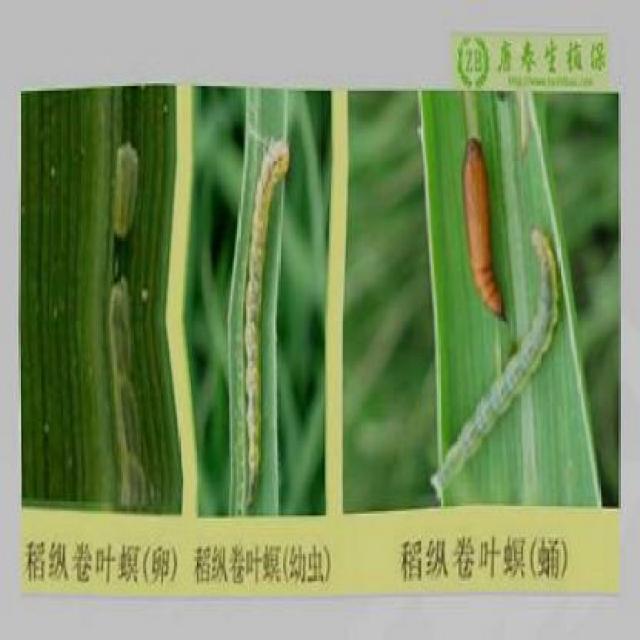leaf-folder: (420, 135, 574, 472), (82, 126, 160, 512), (229, 114, 288, 498)
